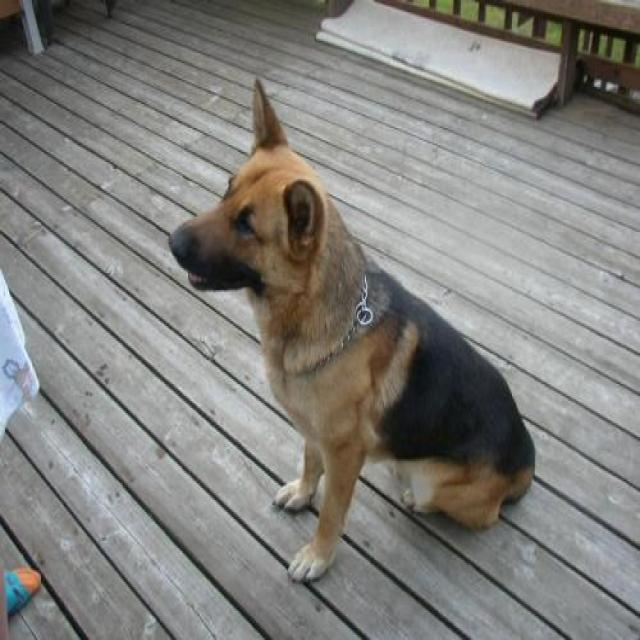Dogs: (166, 75, 536, 584)
